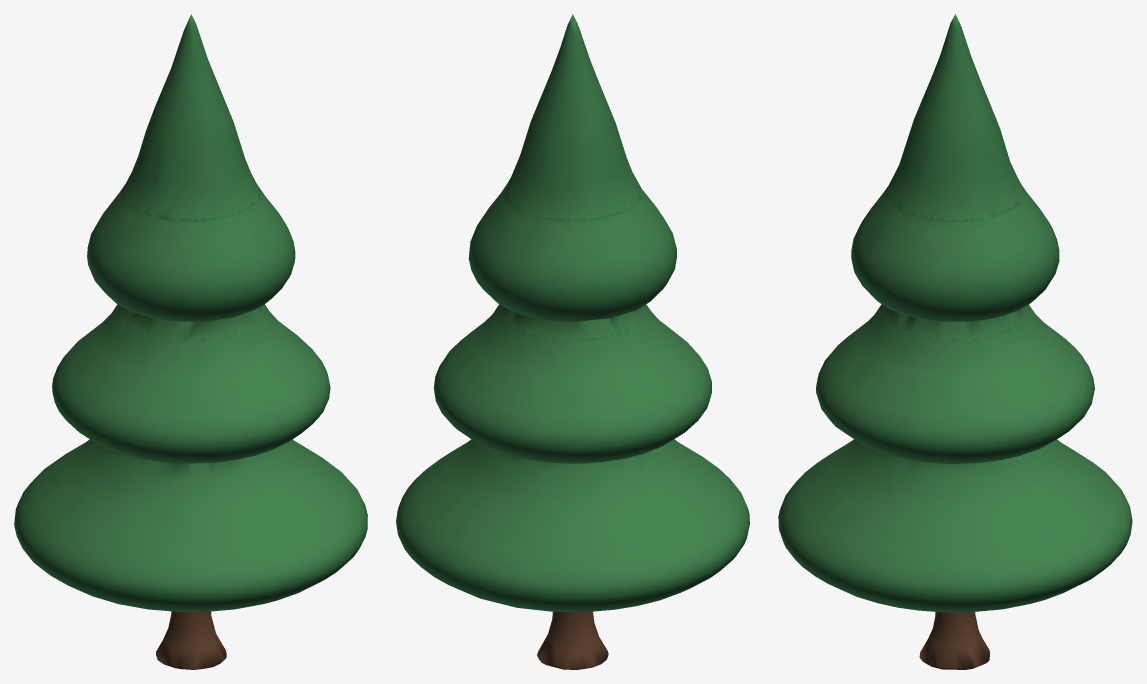
File: pine_tree.glb
3 views of the same model, side by side, from view 1: azimuth 30°, elevation 25°; view 2: azimuth 150°, elevation 25°; view 3: azimuth 270°, elevation 25° (orthographic).
Parts seen in each view (by area): view 1: pine_tree_needles, pine_tree_trunk; view 2: pine_tree_needles, pine_tree_trunk; view 3: pine_tree_needles, pine_tree_trunk.
Boxes of the visible parts, box(x1,y1,x2,y2) form: pine_tree_needles: box(14, 14, 367, 611); pine_tree_trunk: box(156, 611, 226, 669); pine_tree_needles: box(396, 14, 749, 611); pine_tree_trunk: box(537, 611, 608, 669); pine_tree_needles: box(778, 14, 1132, 612); pine_tree_trunk: box(919, 612, 989, 669).
Bounding box in the file's own units: 2.49 × 4.97 × 2.49.
1 material, 1 textured.
